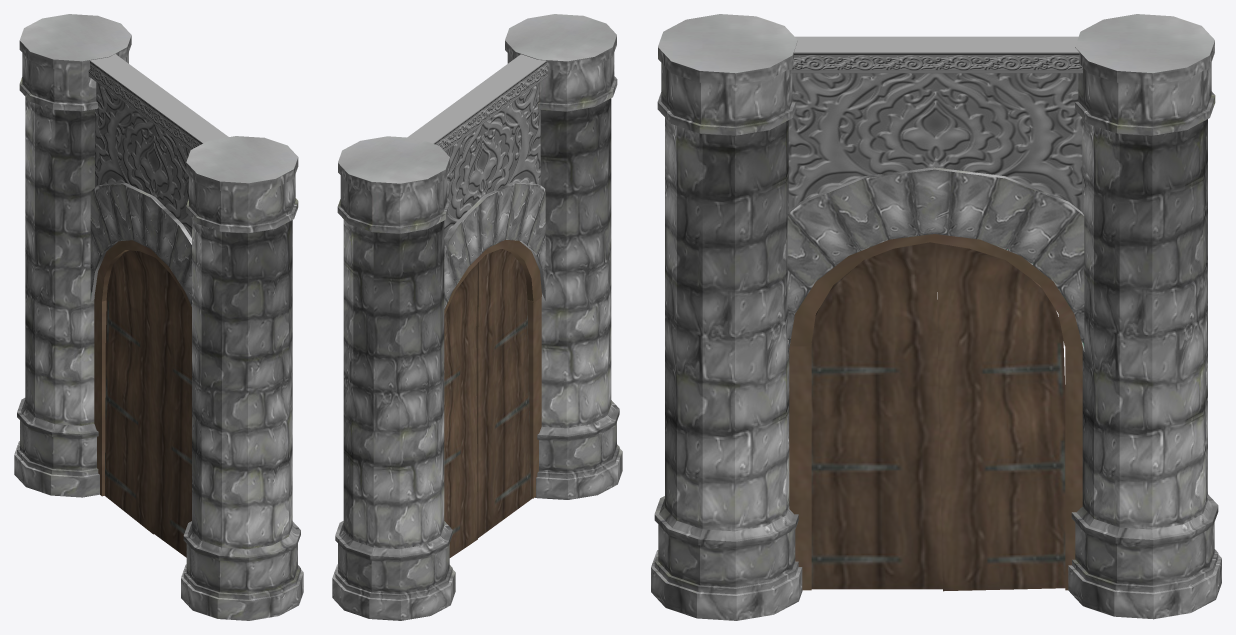
Rendered from door.fbx.
3 views of the same model, side by side, from view 1: azimuth 30°, elevation 25°; view 2: azimuth 150°, elevation 25°; view 3: azimuth 270°, elevation 25° (orthographic). The views are drawn at different scales.
Parts seen in each view (by area): view 1: polySurface569, polySurface560, polySurface559; view 2: polySurface569, polySurface559, polySurface560; view 3: polySurface569, polySurface559, polySurface560.
Boxes of the visible parts, x1,y1,x2,y2 form: polySurface569: [14, 14, 303, 620]; polySurface560: [105, 250, 157, 534]; polySurface559: [152, 259, 191, 557]; polySurface569: [332, 14, 622, 620]; polySurface559: [476, 249, 531, 537]; polySurface560: [444, 263, 478, 557]; polySurface569: [651, 14, 1221, 620]; polySurface559: [811, 242, 942, 589]; polySurface560: [935, 243, 1065, 591].
Size of the model in its own units: 143 by 561 by 531.
1 material, 1 textured.
